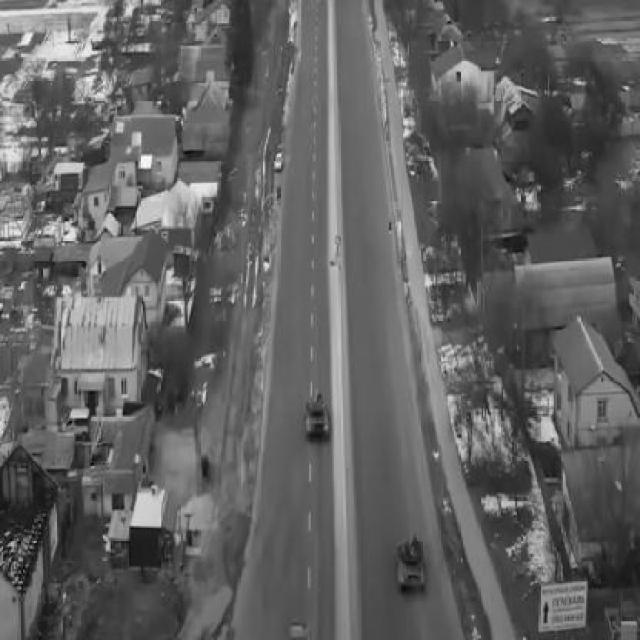Tank: (397, 530, 428, 598), (304, 387, 332, 446)
